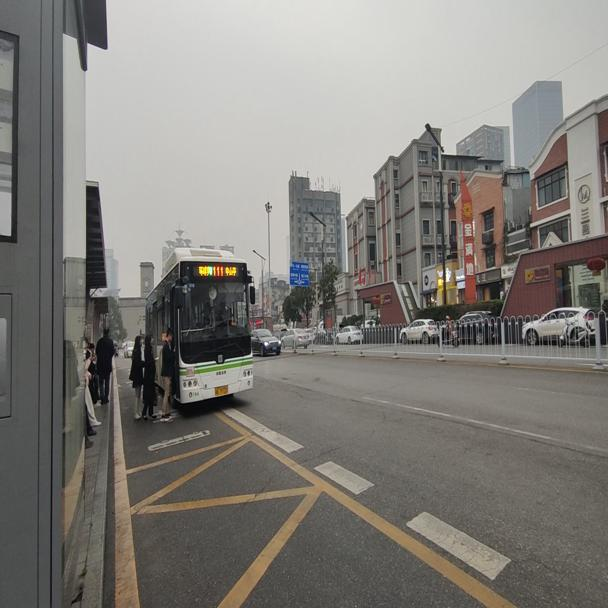bus: (144, 244, 256, 405)
screen: (211, 263, 225, 279)
